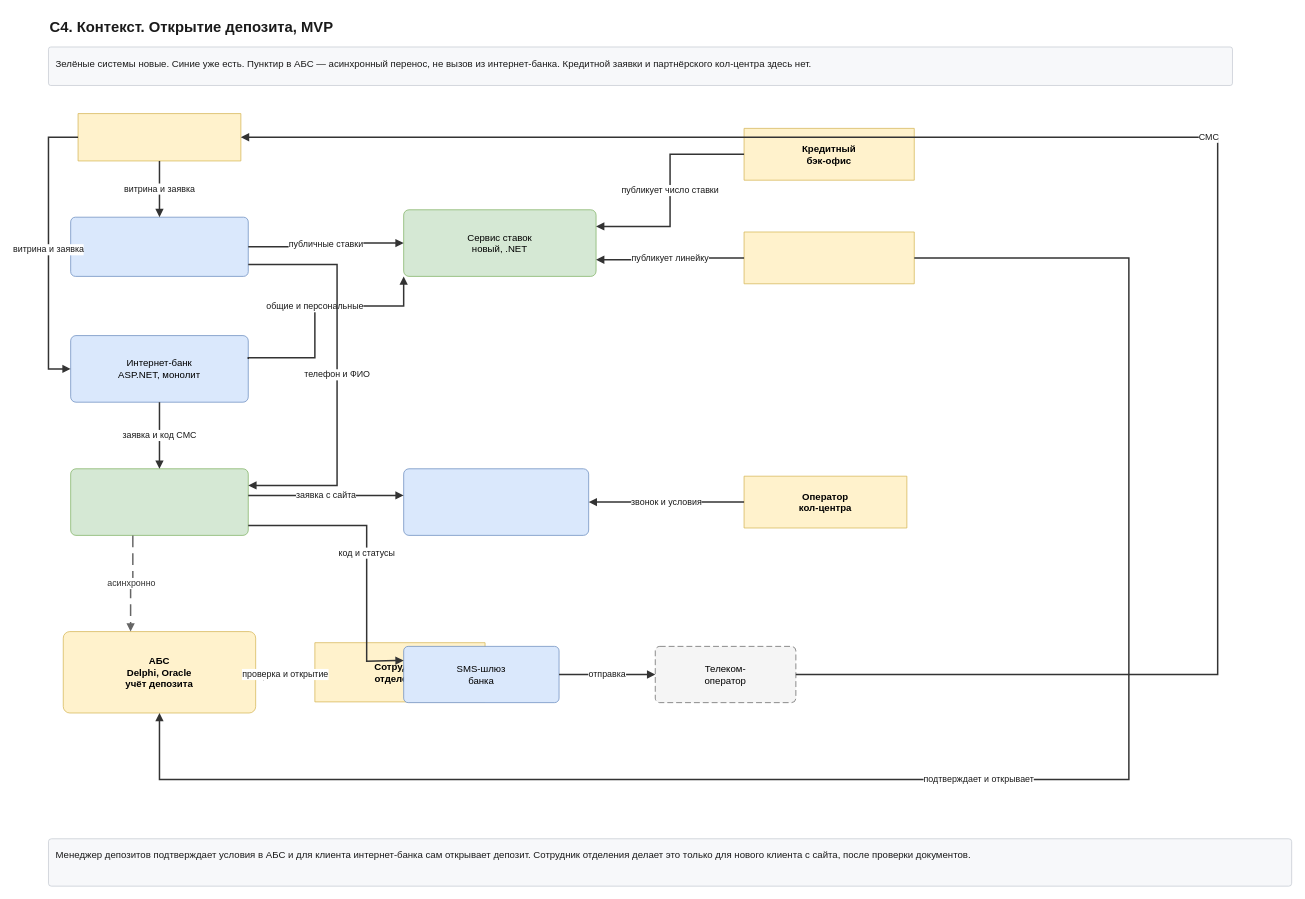
This 1305x899 diagram has some shape labels left out. Each missing label, with the centre of its shape:
Депозитный бэк-офис: point 828,257
Клиент: point 159,137
Сайт PHP, React: point 159,246
Сервис заявок новый, .NET: point 159,501
Система кол-центра: point 496,501
